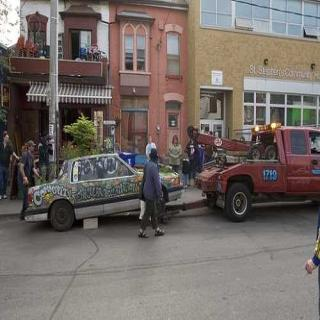Towing_truck: (192, 122, 318, 222)
